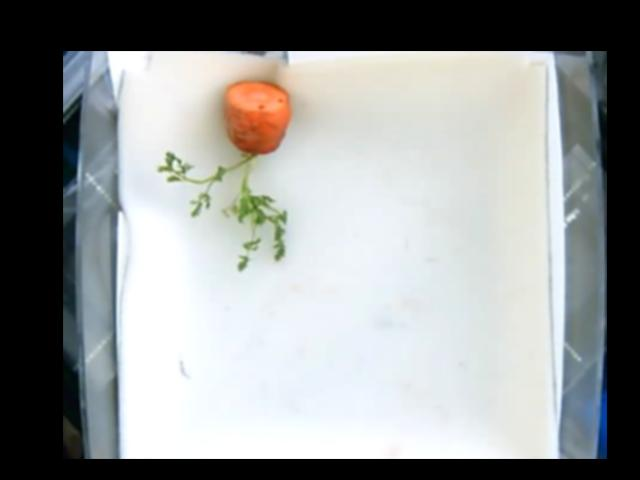Carrot: (156, 79, 289, 267)
